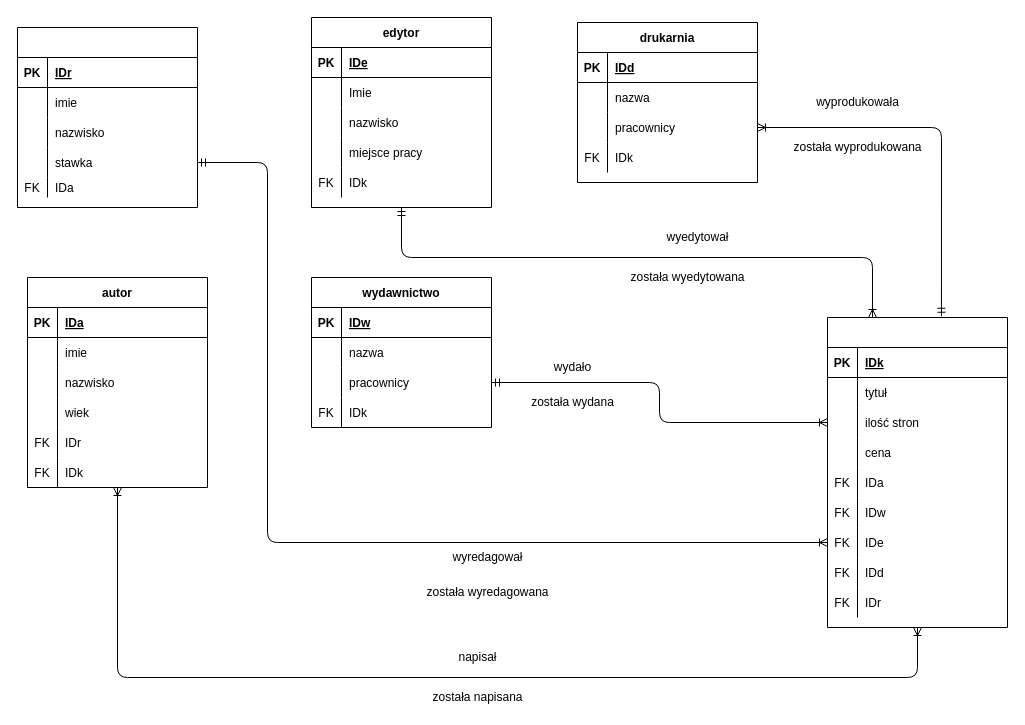
This 1025x725 diagram has some shape labels left out. The box of each missing label's shape, as (x1, y1, x2, y2) in pixels:
książka: (826, 316, 1008, 628)
redaktor: (16, 26, 198, 208)
